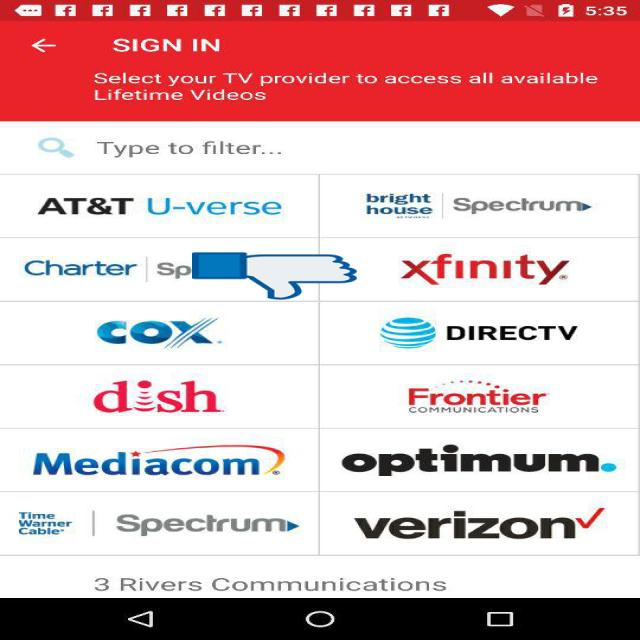obstruction: (192, 251, 357, 301)
